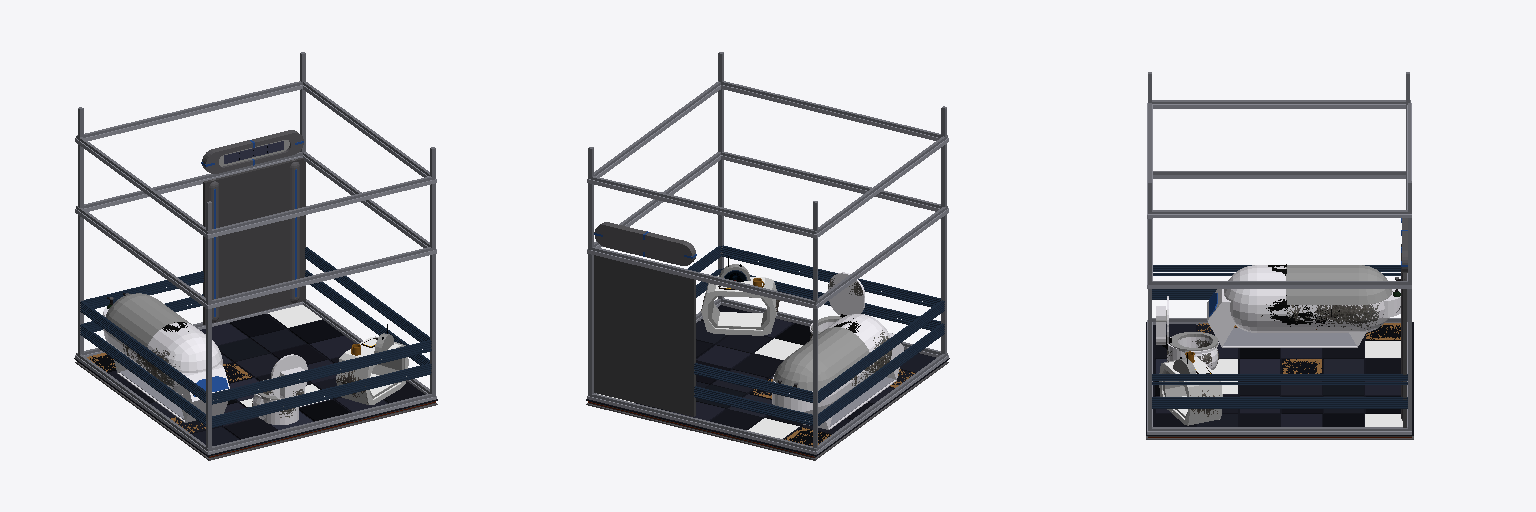
3 views of the same model, side by side, from view 1: azimuth 30°, elevation 25°; view 2: azimuth 150°, elevation 25°; view 3: azimuth 270°, elevation 25° (orthographic).
Parts seen in each view (by area): view 1: Part24, Union6, Union11, Union2, Part93, Part94, Part95, Union3, Part77, Part85, Part76, Part79 (+28 smaller); view 2: Part24, Union11, Union2, Union6, Part96, Part93, Part95, Part94, Part84, Part76, Part75, Part99 (+24 smaller); view 3: Union6, Union11, Part112, Part74, Part92, Union7, Part78, Part86, Part102, Part80, Part88, Part104 (+14 smaller).
Boxes of the visible parts, x1,y1,x2,y2 form: Part24: [203, 158, 305, 324]; Union6: [103, 315, 222, 392]; Union11: [106, 293, 191, 346]; Union2: [202, 130, 303, 173]; Part93: [206, 201, 211, 451]; Part94: [430, 147, 435, 396]; Part95: [78, 107, 83, 354]; Union3: [290, 159, 299, 302]; Part77: [212, 179, 436, 237]; Part85: [211, 249, 436, 307]; Part76: [75, 85, 302, 143]; Part79: [212, 176, 431, 233]; Part24: [594, 255, 695, 416]; Union11: [774, 327, 869, 390]; Union2: [594, 222, 695, 265]; Union6: [773, 314, 889, 414]; Part96: [588, 147, 593, 396]; Part93: [941, 106, 946, 354]; Part95: [813, 201, 817, 447]; Part94: [718, 52, 723, 301]; Part84: [591, 250, 818, 308]; Part76: [591, 180, 818, 238]; Part75: [592, 176, 817, 233]; Part99: [592, 393, 817, 451]; Union6: [1224, 265, 1392, 332]; Union11: [1286, 265, 1392, 304]; Part112: [1223, 328, 1356, 345]; Part74: [1147, 103, 1405, 108]; Part92: [1146, 322, 1413, 435]; Union7: [1261, 303, 1383, 329]; Part78: [1153, 214, 1411, 217]; Part86: [1153, 285, 1411, 288]; Part102: [1153, 431, 1411, 434]; Part80: [1152, 210, 1407, 213]; Part88: [1152, 281, 1407, 284]; Part104: [1152, 427, 1407, 430].
Bounding box in the file's own units: 16.43 × 17.49 × 16.5.
Materials: 82 (4 with a texture image).